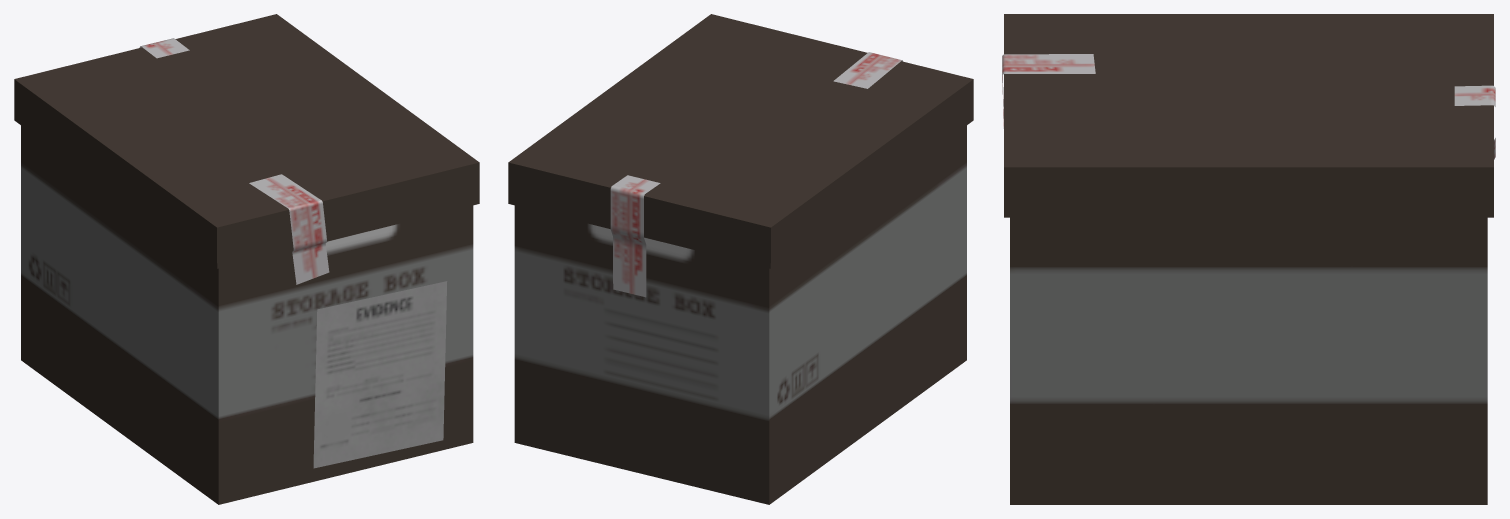
Rendered from FBX_BoxPortableB.fbx.
3 renders of one model, left to right at view 1: azimuth 30°, elevation 25°; view 2: azimuth 150°, elevation 25°; view 3: azimuth 270°, elevation 25°, orthographic. The views are drawn at different scales.
Parts seen in each view (by area): view 1: SM_BoxPortableB; view 2: SM_BoxPortableB; view 3: SM_BoxPortableB.
Boxes of the visible parts, x1,y1,x2,y2 form: SM_BoxPortableB: (14,14,479,504); SM_BoxPortableB: (508,14,973,504); SM_BoxPortableB: (1002,14,1495,504).
Size of the model in its own units: 0.2992 by 0.3074 by 0.4029.
